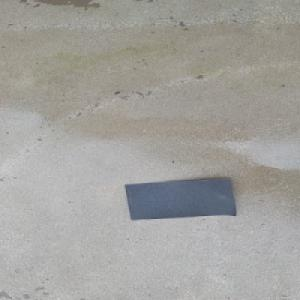PaintChip: (124, 178, 237, 220)
